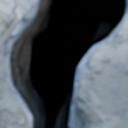broken_brick: (78, 17, 127, 127), (0, 48, 28, 127), (0, 0, 31, 41)
crack: (0, 0, 127, 127)
